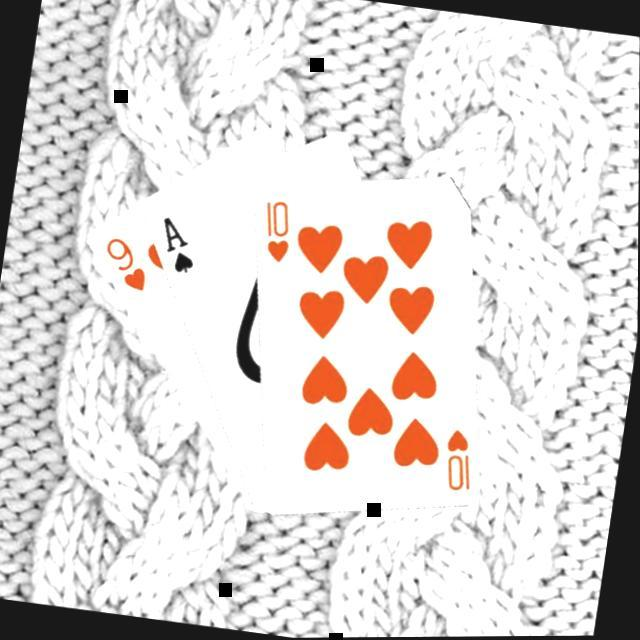10H: (438, 426, 484, 498), (256, 197, 300, 269)
9H: (97, 234, 157, 299)
AS: (153, 214, 205, 281)
